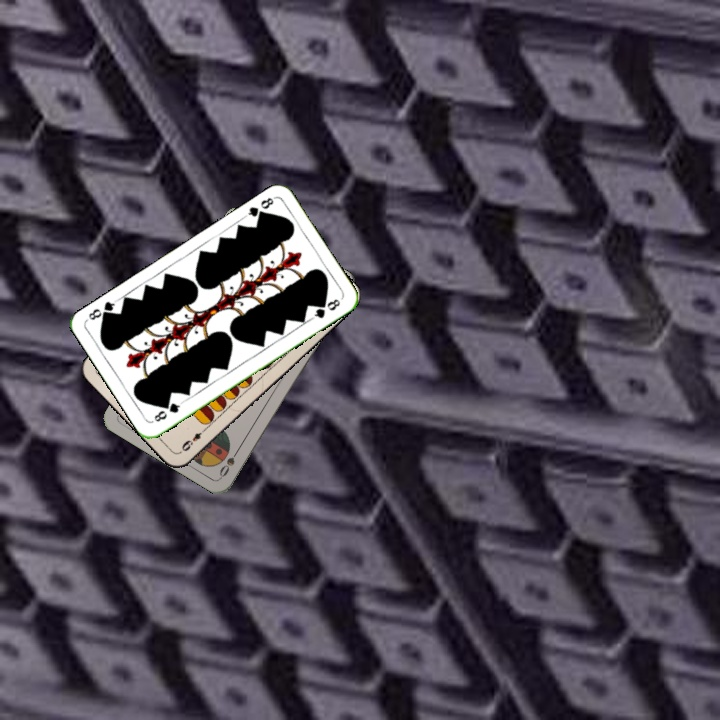E9: (177, 424, 210, 455)
G8: (241, 193, 277, 222), (150, 398, 185, 424)
SO: (215, 443, 243, 480)
